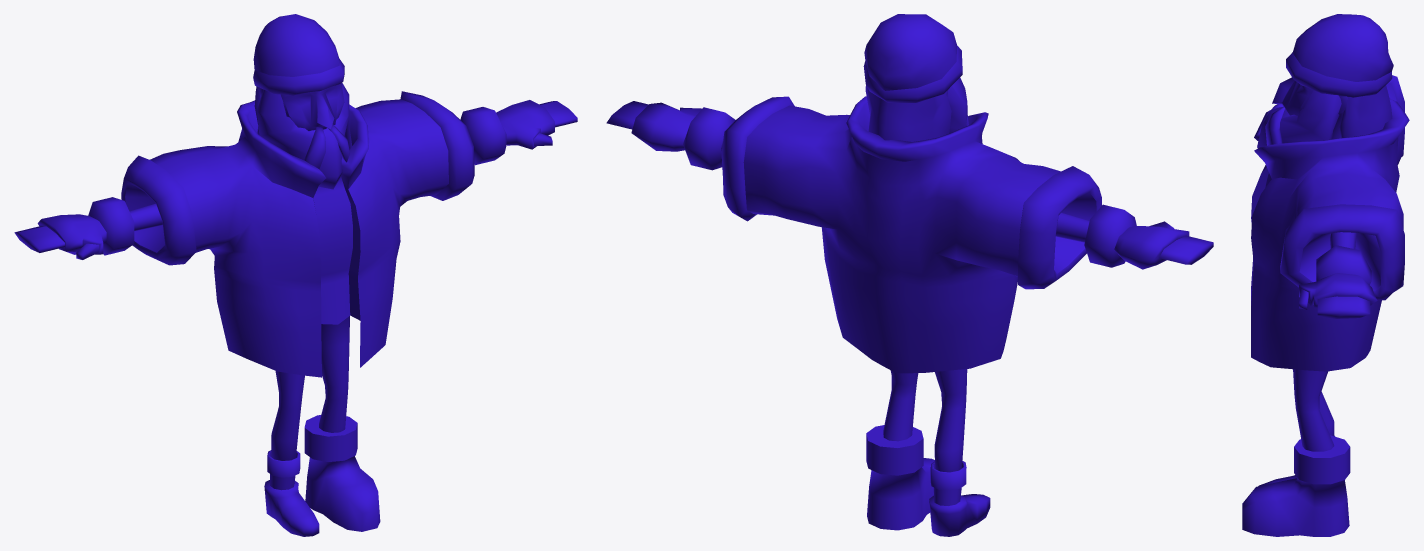
Rendered from Hobo_Hans.fbx.
3 views of the same model, side by side, from view 1: azimuth 30°, elevation 25°; view 2: azimuth 150°, elevation 25°; view 3: azimuth 270°, elevation 25° (orthographic). The views are drawn at different scales.
Visible parts, largest first — view 1: HoboHans; view 2: HoboHans; view 3: HoboHans.
Part boxes in pixels (bbox=[...]): HoboHans: bbox=[14, 14, 577, 536]; HoboHans: bbox=[606, 14, 1213, 536]; HoboHans: bbox=[1242, 14, 1409, 536].
Bounding box in the file's own units: 1988 × 1694 × 518.
